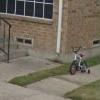Bicycle: (68, 41, 92, 83)
